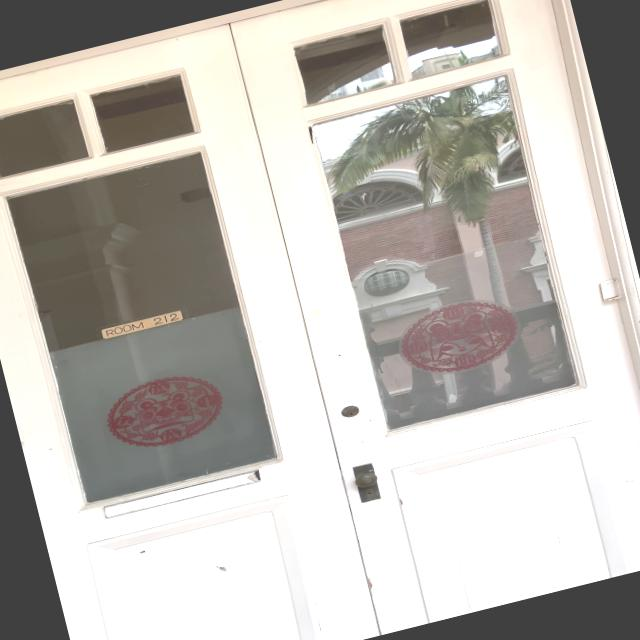room212Window: (93, 300, 195, 342)
